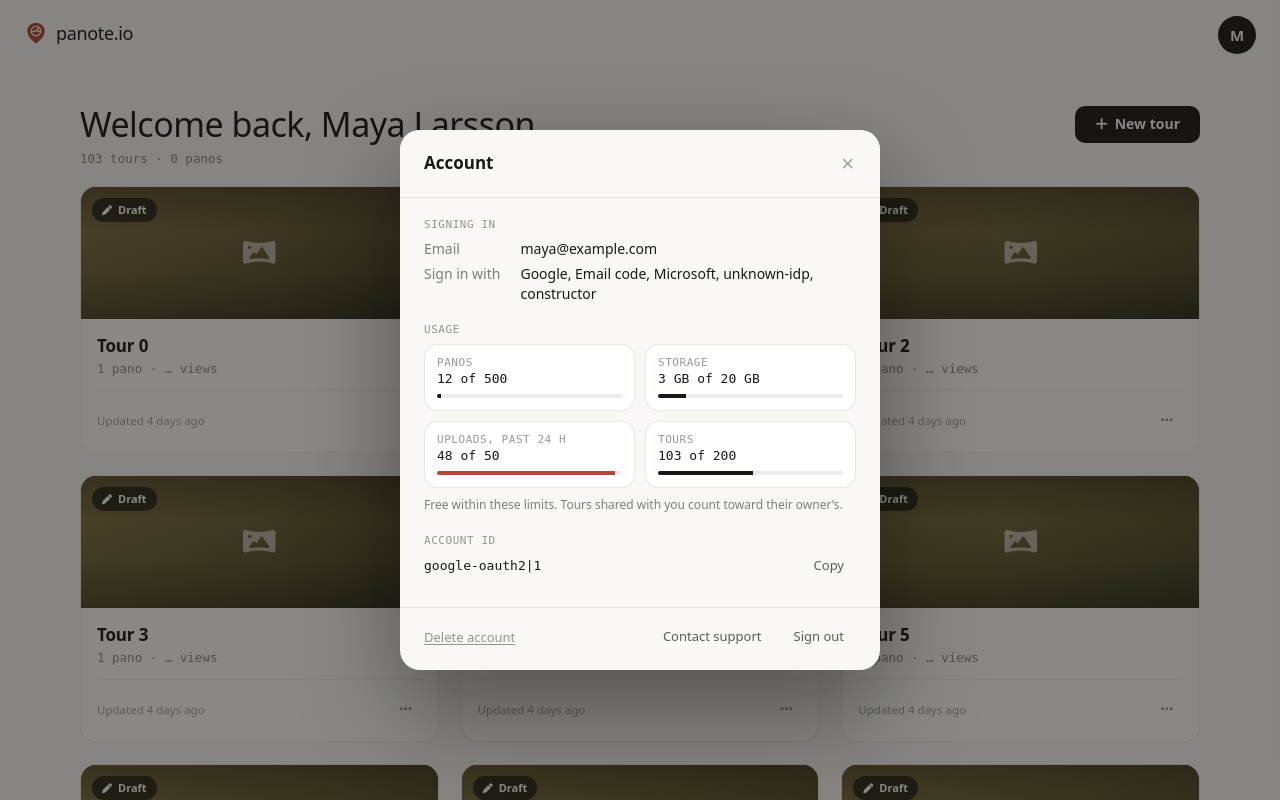
Test case: the account window › opens at /app/account for old links, and closing it leaves the dashboard
expect the text "maya@example.com" is shown: met, box x1=520 y1=239 x2=657 y2=258
expect the heading "Welcome back, Maya Larsson." is shown: met, box x1=80 y1=106 x2=544 y2=143
Click the button named "Close".
click(848, 164)  # box x1=839 y1=152 x2=856 y2=174
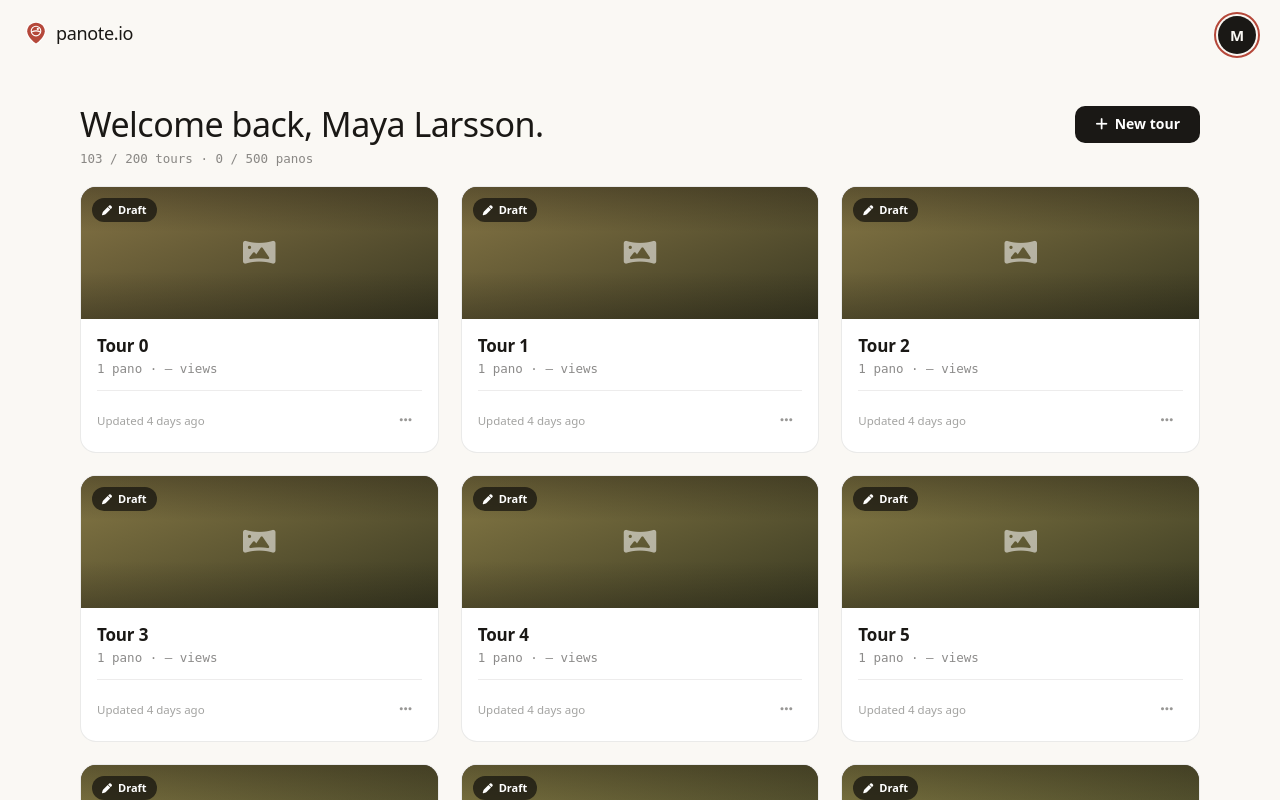
expect the heading "Account" is gone: met
